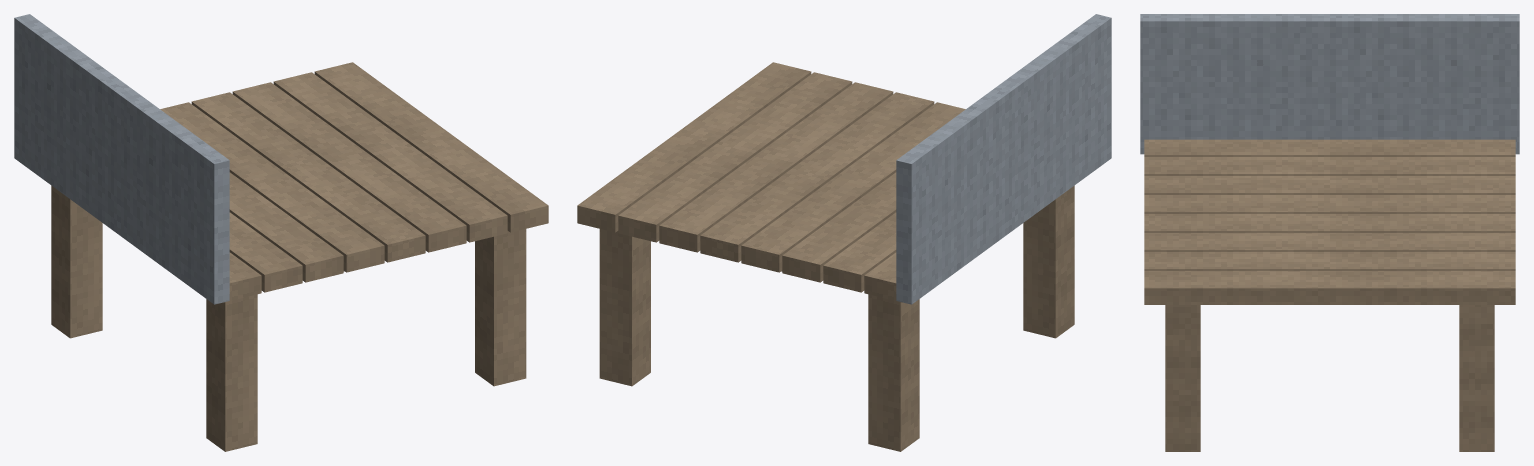
File: level_blockout_dock_bay.glb
3 views of the same model, side by side, from view 1: azimuth 30°, elevation 25°; view 2: azimuth 150°, elevation 25°; view 3: azimuth 270°, elevation 25° (orthographic). The views are drawn at different scales.
Parts seen in each view (by area): view 1: level_blockout_dock_bay; view 2: level_blockout_dock_bay; view 3: level_blockout_dock_bay.
Part boxes in pixels (x1,y1,x2,y2): level_blockout_dock_bay: (14, 14, 548, 451); level_blockout_dock_bay: (577, 14, 1111, 451); level_blockout_dock_bay: (1140, 14, 1519, 451).
Size of the model in its own units: 2.38 by 2.05 by 2.45.
Materials: 2 (2 with a texture image).
